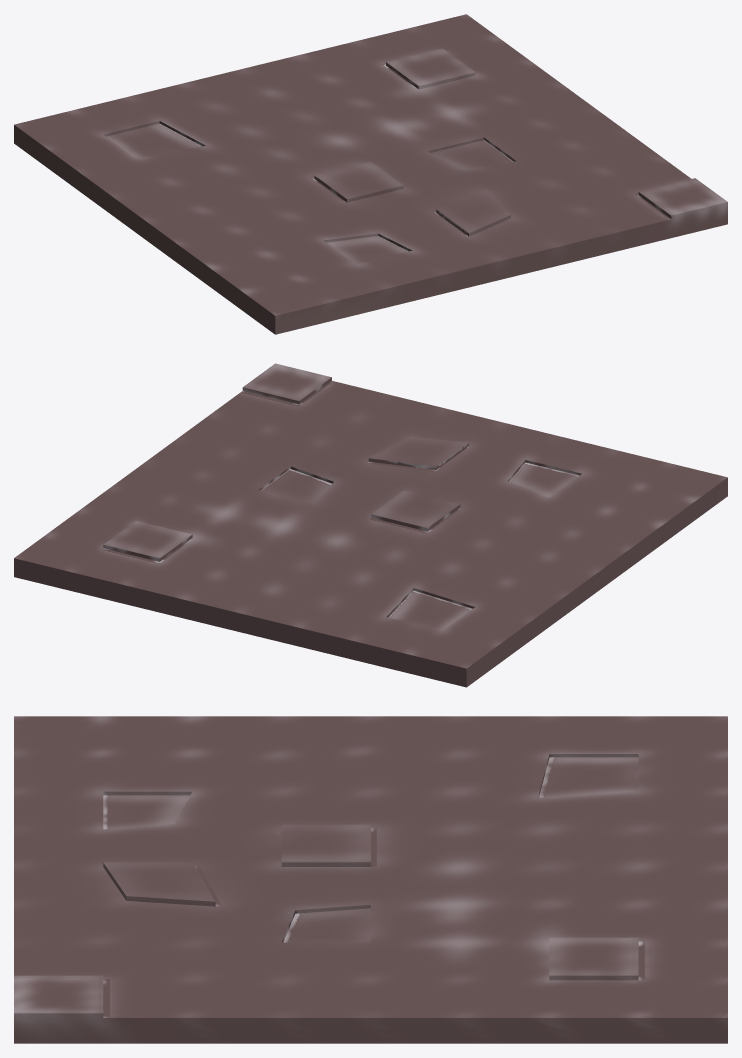
The model's file is floor1.fbx.
The picture shows the model from 3 angles, top to bottom: view 1: azimuth 30°, elevation 25°; view 2: azimuth 150°, elevation 25°; view 3: azimuth 270°, elevation 25°; orthographic projection. The views are drawn at different scales.
Visible parts, largest first — view 1: Cube; view 2: Cube; view 3: Cube.
Boxes of the visible parts, x1,y1,x2,y2 form: Cube: (14,14,727,334); Cube: (14,363,727,687); Cube: (14,716,727,1043).
Bounding box in the file's own units: 760 × 35.83 × 760.
Materials: 1 (1 with a texture image).
